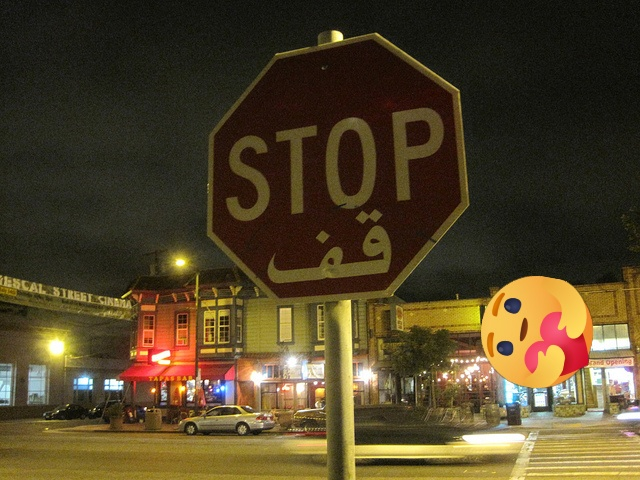care: (481, 276, 593, 388)
